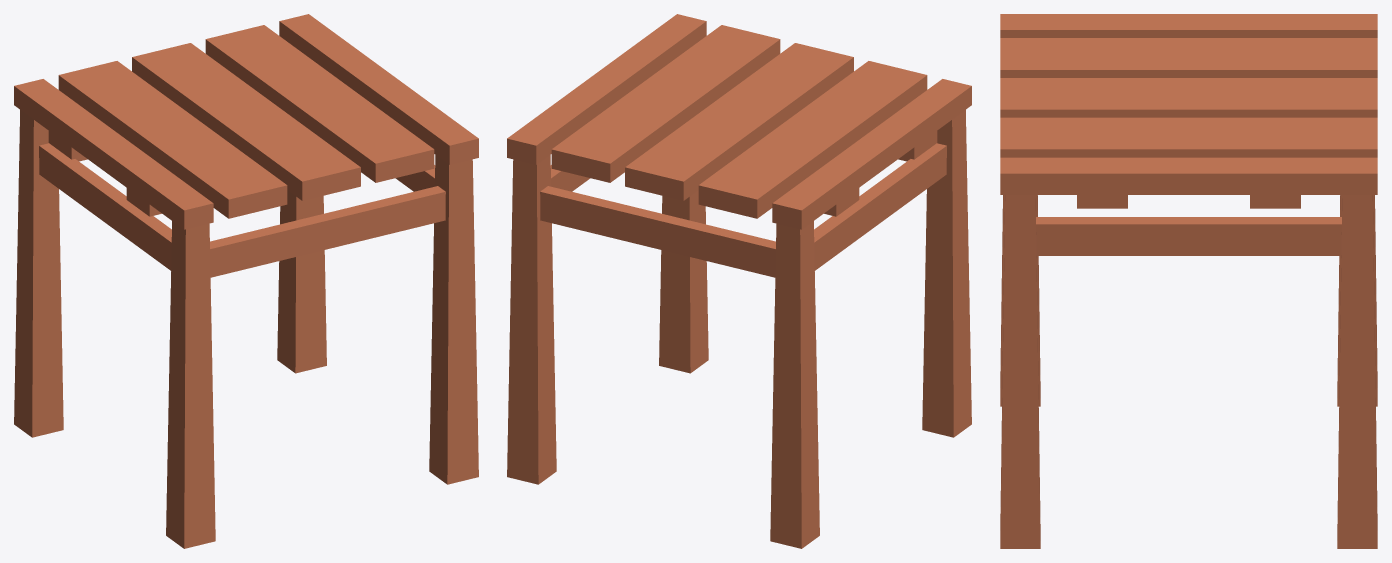
File: structure-floor.obj
3 views of the same model, side by side, from view 1: azimuth 30°, elevation 25°; view 2: azimuth 150°, elevation 25°; view 3: azimuth 270°, elevation 25° (orthographic). The views are drawn at different scales.
Size of the model in its own units: 0.5 by 0.5487 by 0.5.
